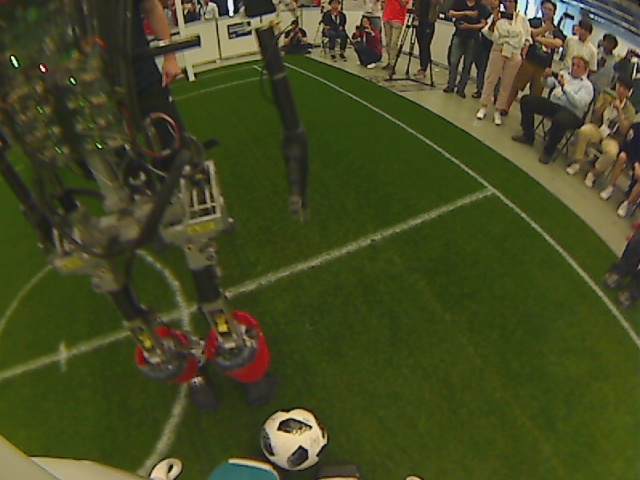ball: (256, 407, 329, 472)
